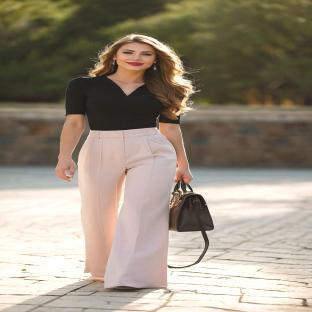Human: (56, 35, 193, 288)
